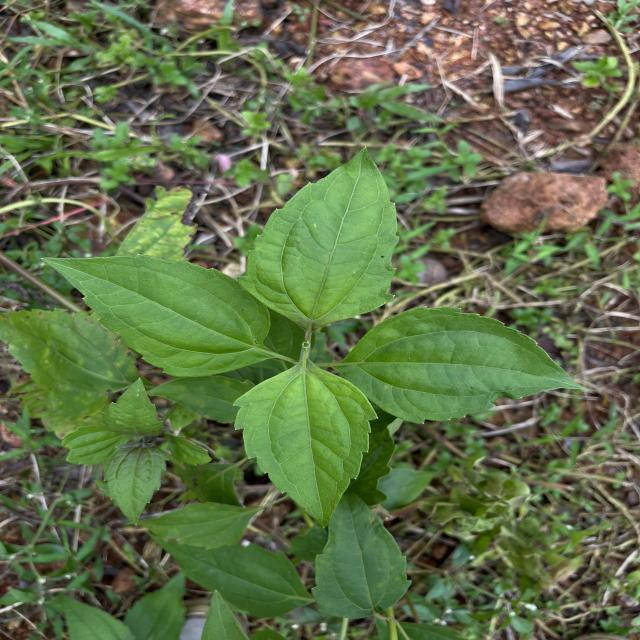Chromolaena odorata: (329, 302, 588, 427), (234, 144, 403, 334), (36, 250, 278, 380), (228, 356, 382, 532)
